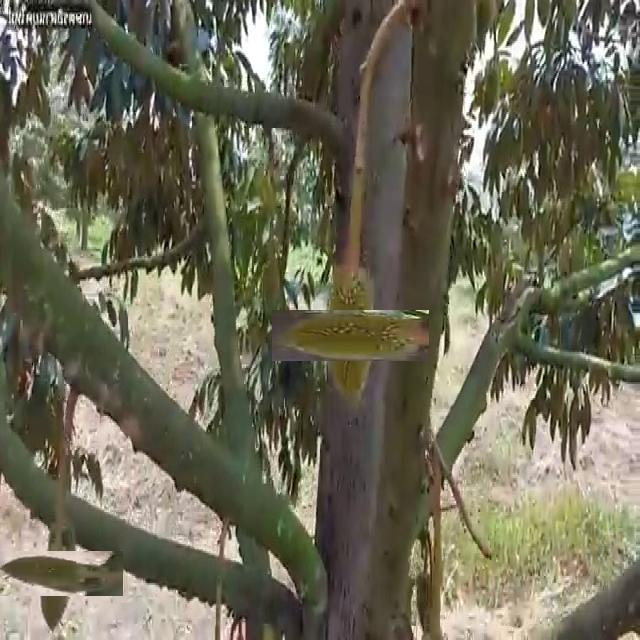durian: (298, 283, 402, 388), (14, 529, 102, 617)
